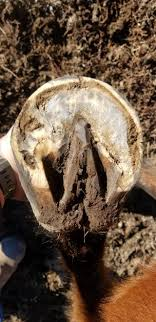horsesole: (11, 76, 144, 220)
